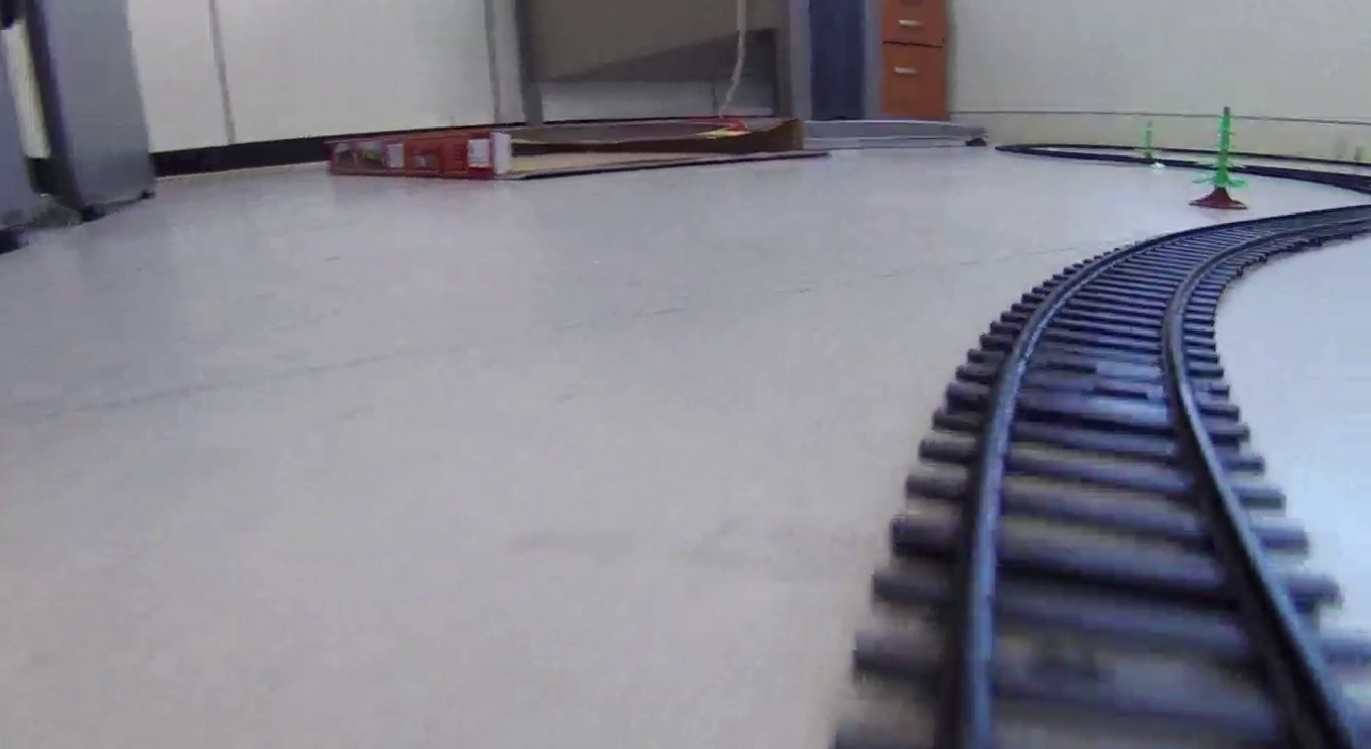tree: (1193, 109, 1250, 211)
